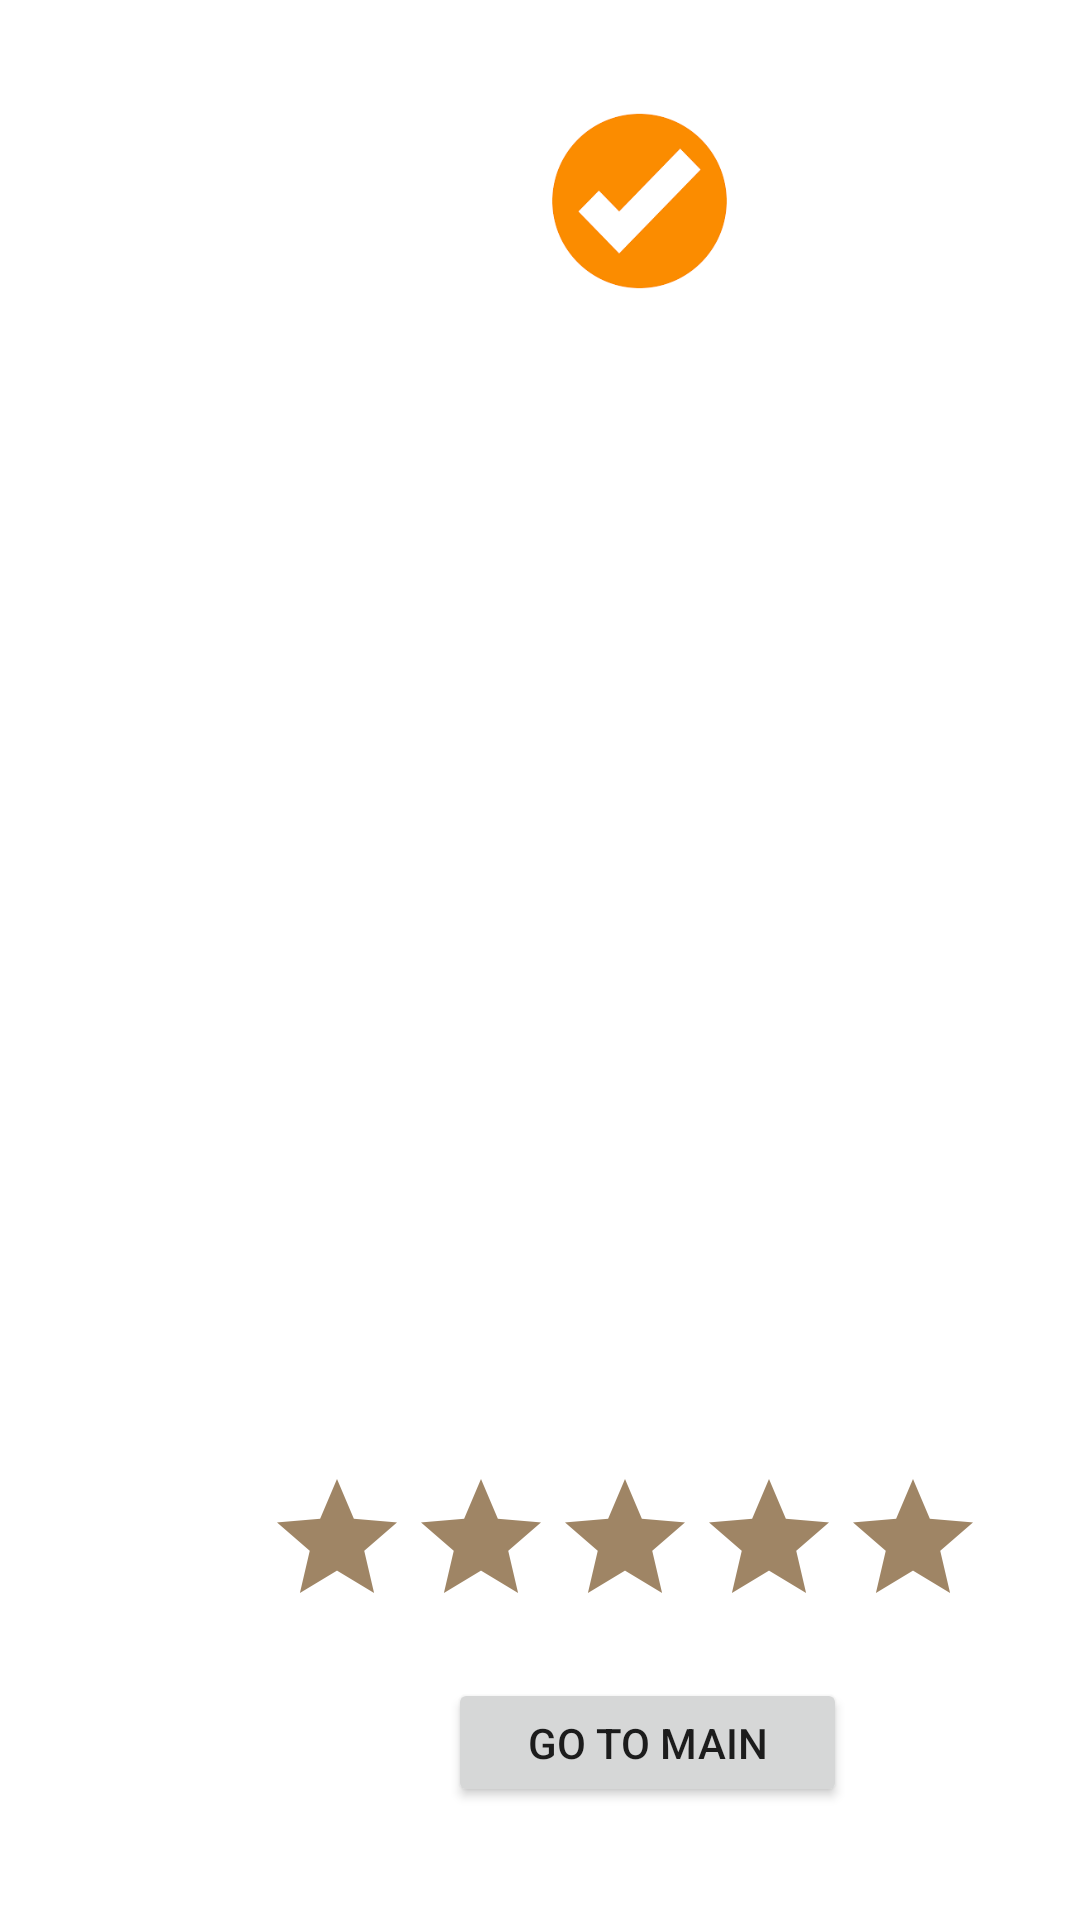

Icons on this 1080x1920 Android screen, each with its box as (x1, y1, x2, y2):
confirmation: (552, 113, 727, 289)
